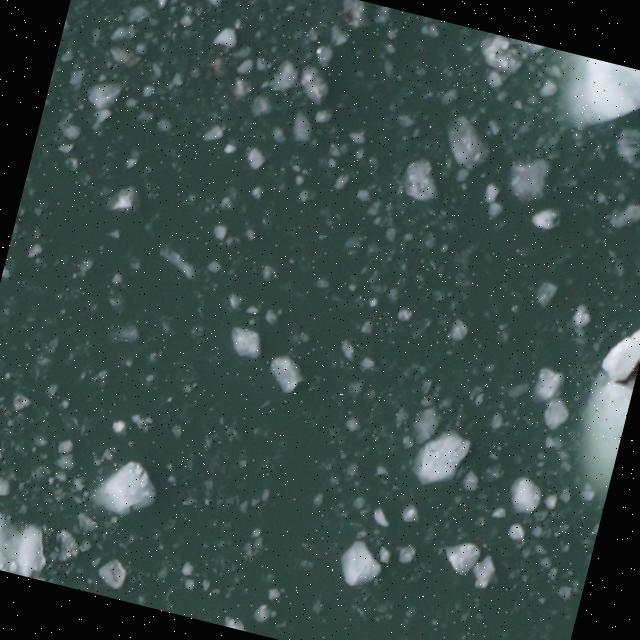seal: (606, 323, 640, 396)
